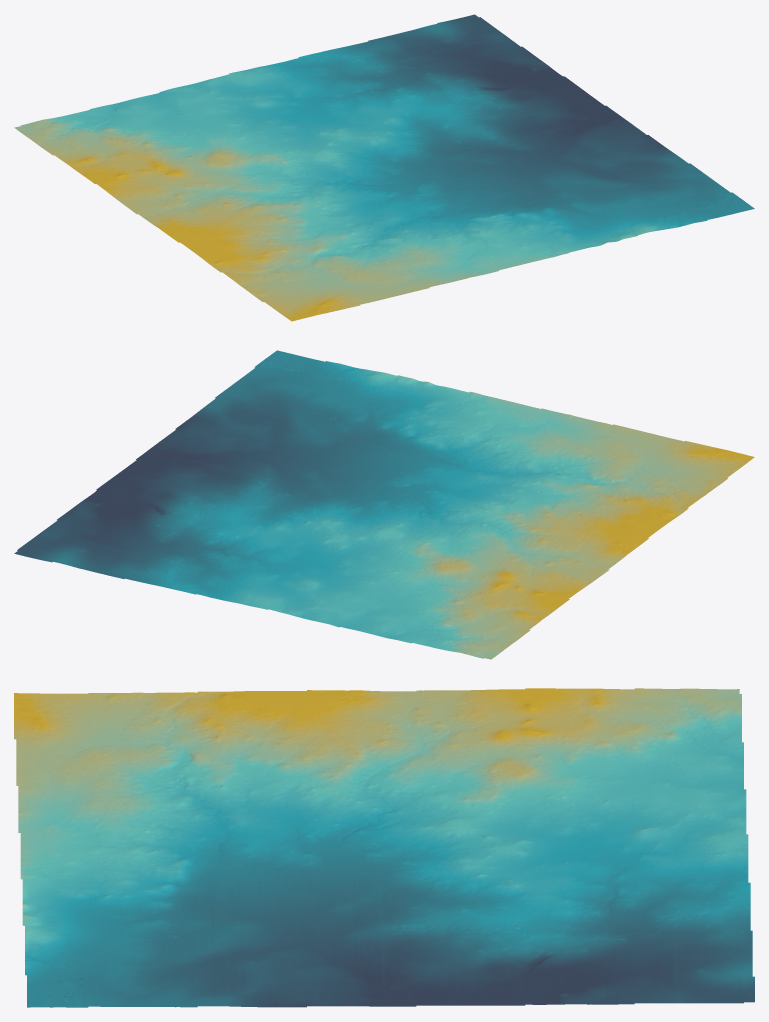
The model's file is terrain.glb.
3 views of the same model, one above another, from view 1: azimuth 30°, elevation 25°; view 2: azimuth 150°, elevation 25°; view 3: azimuth 270°, elevation 25° (orthographic). The views are drawn at different scales.
Parts seen in each view (by area): view 1: terrain-chunk-0004, terrain-chunk-0003, terrain-chunk-0001, terrain-chunk-0000, terrain-chunk-0007, terrain-chunk-0005, terrain-chunk-0002, terrain-chunk-0006, terrain-chunk-0008; view 2: terrain-chunk-0001, terrain-chunk-0004, terrain-chunk-0003, terrain-chunk-0000, terrain-chunk-0002, terrain-chunk-0007, terrain-chunk-0005, terrain-chunk-0006, terrain-chunk-0008; view 3: terrain-chunk-0004, terrain-chunk-0003, terrain-chunk-0001, terrain-chunk-0000, terrain-chunk-0007, terrain-chunk-0005, terrain-chunk-0006, terrain-chunk-0002, terrain-chunk-0008.
Part boxes in pixels (x1,y1,x2,y2): terrain-chunk-0004: (255,90,538,208); terrain-chunk-0003: (78,131,358,246); terrain-chunk-0001: (359,166,637,279); terrain-chunk-0000: (186,208,459,321); terrain-chunk-0007: (190,41,434,131); terrain-chunk-0005: (435,64,653,166); terrain-chunk-0002: (539,139,754,235); terrain-chunk-0006: (14,84,254,171); terrain-chunk-0008: (368,14,545,89); terrain-chunk-0001: (297,375,580,495); terrain-chunk-0004: (192,453,478,571); terrain-chunk-0003: (374,495,653,611); terrain-chunk-0000: (479,417,754,533); terrain-chunk-0002: (181,350,396,452); terrain-chunk-0007: (125,529,373,619); terrain-chunk-0005: (80,425,296,528); terrain-chunk-0006: (308,571,552,659); terrain-chunk-0008: (14,503,191,578); terrain-chunk-0004: (291,808,571,931); terrain-chunk-0003: (291,688,571,810); terrain-chunk-0001: (18,806,291,930); terrain-chunk-0000: (14,691,291,810); terrain-chunk-0007: (571,808,750,930); terrain-chunk-0005: (291,929,571,1007); terrain-chunk-0006: (571,688,746,809); terrain-chunk-0002: (25,926,291,1007); terrain-chunk-0008: (571,930,754,1004).
Bounding box in the file's own units: 2034 × 28.94 × 2034.
